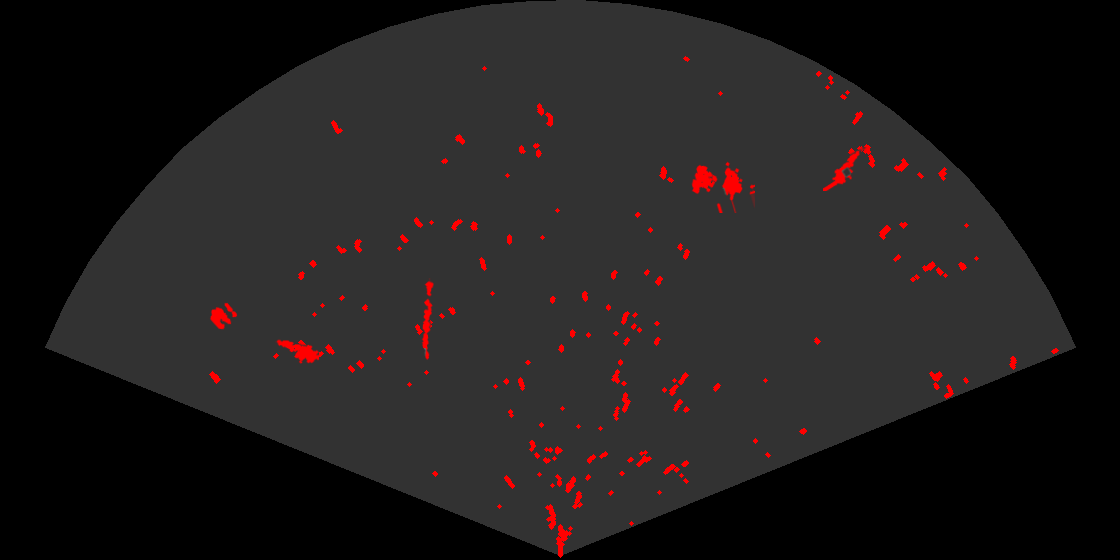ball: (208, 301, 239, 331)
cage: (690, 160, 755, 213)
chain: (420, 278, 435, 360)
frogman: (823, 147, 867, 191), (275, 338, 319, 365)
